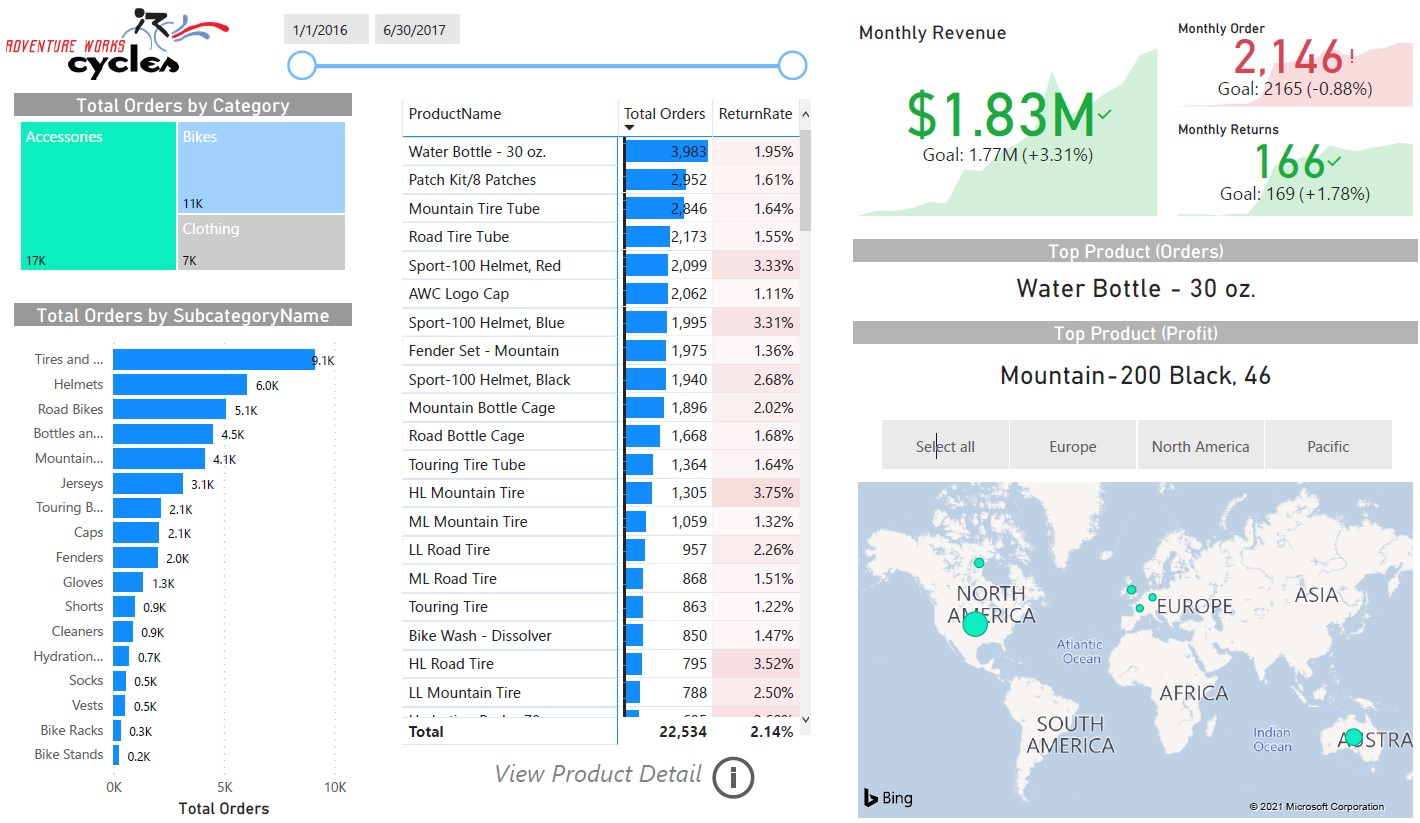

This screenshot's page, from the dashboard's own definition file:
{"tool":"powerbi","page":{"name":"Exec Summary Presenter","canvas":[1280,720],"ordinal":0},"visuals":[{"type":"image","box":[0,0,216,72],"z":0},{"type":"barChart","title":"Total Orders by SubcategoryName","fields":{"Y":["AW_Sales.Total Orders"],"Category":["AW_Product_Subcategories_Lookup.SubcategoryName"]},"box":[16,264,296,456],"z":1000},{"type":"treemap","title":"Total Orders by Category","fields":{"Group":["AW_Product_Categories_Lookup.CategoryName","AW_Product_Subcategories_Lookup.SubcategoryName"],"Values":["AW_Sales.Total Orders"]},"box":[16,80,296,160],"z":2000},{"type":"pivotTable","fields":{"Values":["AW_Sales.Total Orders","AW_Returns.ReturnRate"],"Rows":["AW_Product_Categories_Lookup.CategoryName","AW_Product_Subcategories_Lookup.SubcategoryName","AW_Product_Lookup.ProductName"]},"box":[352,80,368,576],"z":3000},{"type":"slicer","fields":{"Values":["AW_Calendar_Lookup.Date"]},"box":[240,0,480,72],"z":4000},{"type":"kpi","title":"Monthly Revenue","fields":{"Indicator":["AW_Sales.Total Revenue"],"TrendLine":["AW_Calendar_Lookup.Start of Month"],"Goal":["AW_Sales.Prev Month Revenue"]},"box":[752,16,272,176],"z":5000},{"type":"kpi","title":"Monthly Order","fields":{"TrendLine":["AW_Calendar_Lookup.Start of Month"],"Indicator":["AW_Sales.Total Orders"],"Goal":["AW_Sales.Prev Month Orders"]},"box":[1032,16,216,80],"z":6000},{"type":"kpi","title":"Monthly Returns","fields":{"TrendLine":["AW_Calendar_Lookup.Start of Month"],"Indicator":["AW_Returns.Total Returns"],"Goal":["AW_Sales.Prev Month Returns"]},"box":[1032,104,216,88],"z":7000},{"type":"card","title":"Top Product (Orders)","fields":{"Values":["Min(AW_Product_Lookup.ProductName)"]},"box":[752,208,496,64],"z":8000},{"type":"card","title":"Top Product (Profit)","fields":{"Values":["Min(AW_Product_Lookup.ProductName)"]},"box":[752,280,496,72],"z":9000},{"type":"map","fields":{"Category":["AW_Territories_Lookup.Country"],"Size":["AW_Sales.Total Orders"]},"box":[752,416,496,304],"z":10000},{"type":"slicer","fields":{"Values":["AW_Territories_Lookup.Continent"]},"box":[752,360,496,56],"z":11000},{"type":"textbox","box":[351.2,656.1,273,47.9],"z":12000},{"type":"actionButton","box":[622.6,656.1,129.3,47.9],"z":13000}]}

Visuals, with their boxes in screenshot pixels (x1, y1, x2, y2), scaled from the page's 1280x720 canvas onto the 1420x823 screenshot:
image: bbox=(0, 0, 240, 82)
"Total Orders by SubcategoryName" barChart: bbox=(18, 302, 346, 822)
"Total Orders by Category" treemap: bbox=(18, 91, 346, 274)
pivotTable - AW_Sales.Total Orders x AW_Returns.ReturnRate: bbox=(390, 91, 799, 750)
slicer - AW_Calendar_Lookup.Date: bbox=(266, 0, 799, 82)
"Monthly Revenue" kpi: bbox=(834, 18, 1136, 219)
"Monthly Order" kpi: bbox=(1145, 18, 1384, 110)
"Monthly Returns" kpi: bbox=(1145, 119, 1384, 219)
"Top Product (Orders)" card: bbox=(834, 238, 1384, 311)
"Top Product (Profit)" card: bbox=(834, 320, 1384, 402)
map - AW_Territories_Lookup.Country x AW_Sales.Total Orders: bbox=(834, 476, 1384, 822)
slicer - AW_Territories_Lookup.Continent: bbox=(834, 412, 1384, 476)
textbox: bbox=(390, 750, 692, 805)
actionButton: bbox=(691, 750, 834, 805)
